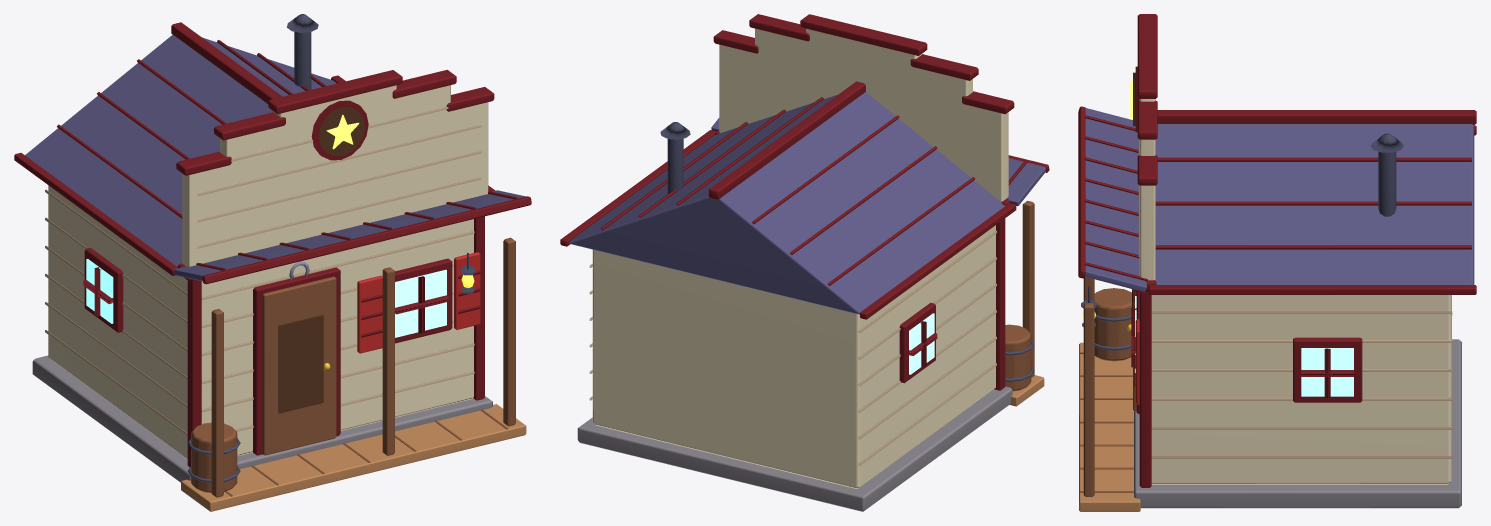
The model's file is house_junction_a.glb.
3 renders of one model, left to right at view 1: azimuth 30°, elevation 25°; view 2: azimuth 150°, elevation 25°; view 3: azimuth 270°, elevation 25°, orthographic. The views are drawn at different scales.
Parts seen in each view (by area): view 1: House, Porch; view 2: House, Porch; view 3: House, Porch.
Part boxes in pixels (x1=…): House: x1=14, y1=14, x2=495, y2=482; Porch: x1=174, y1=190, x2=531, y2=511; House: x1=560, y1=14, x2=1016, y2=511; Porch: x1=711, y1=118, x2=1049, y2=406; House: x1=1127, y1=14, x2=1476, y2=508; Porch: x1=1078, y1=106, x2=1147, y2=511.
Bounding box in the file's own units: 3.92 × 4.15 × 4.01.
